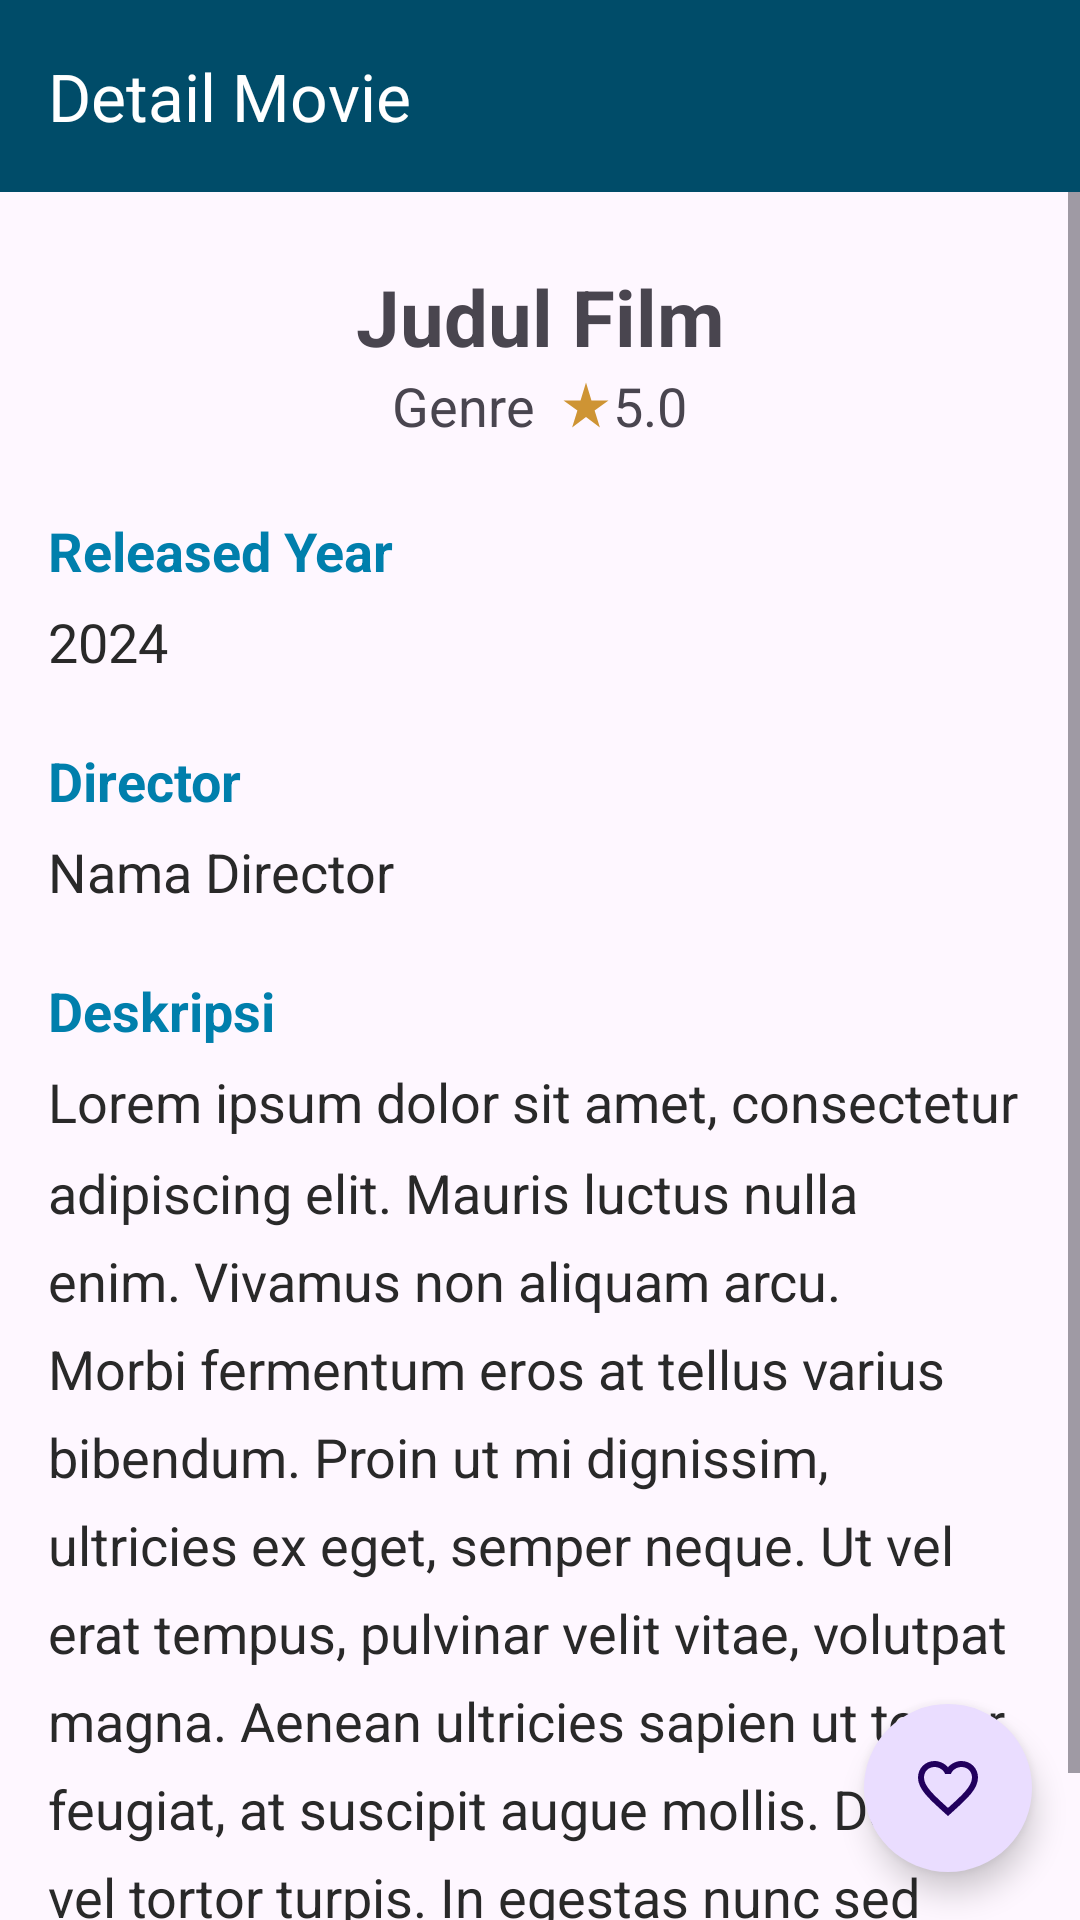

Screen size 1080 x 1920. Icon name, then its box in pixels as (x1, y1, x2, y2):
favorite: (864, 1704, 1032, 1872)
rate: (564, 383, 608, 428)
